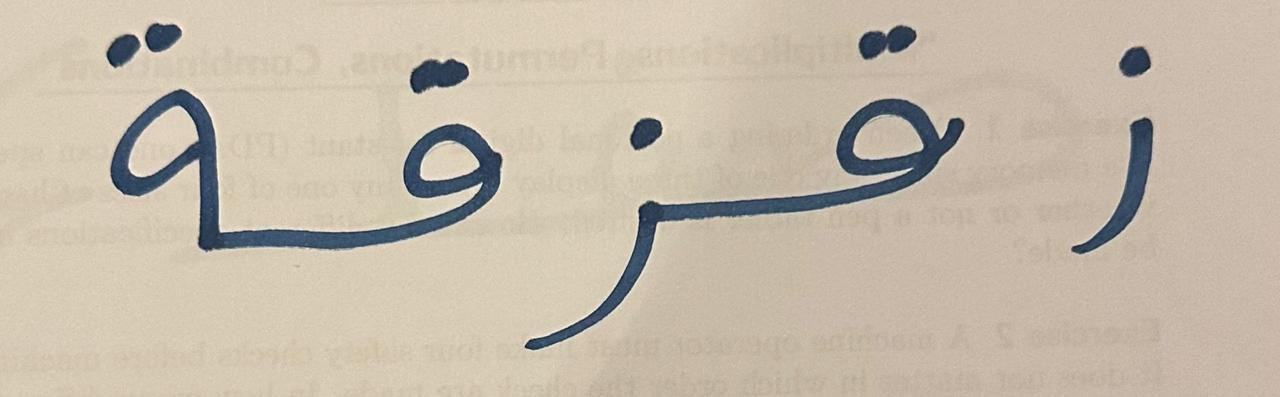hamza: (520, 69, 738, 377), (1022, 16, 1236, 312)
reh: (743, 6, 1009, 256), (284, 30, 515, 286)
thal: (68, 4, 274, 303)
